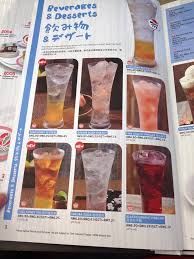not-coke: (130, 148, 169, 214)
